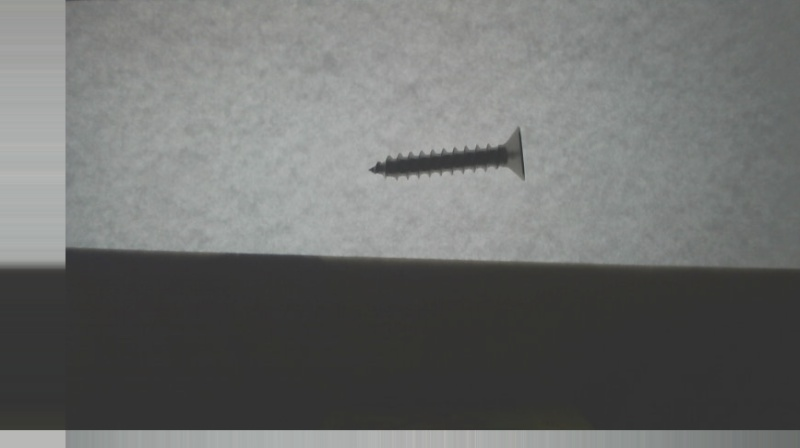S001: (364, 123, 528, 185)
